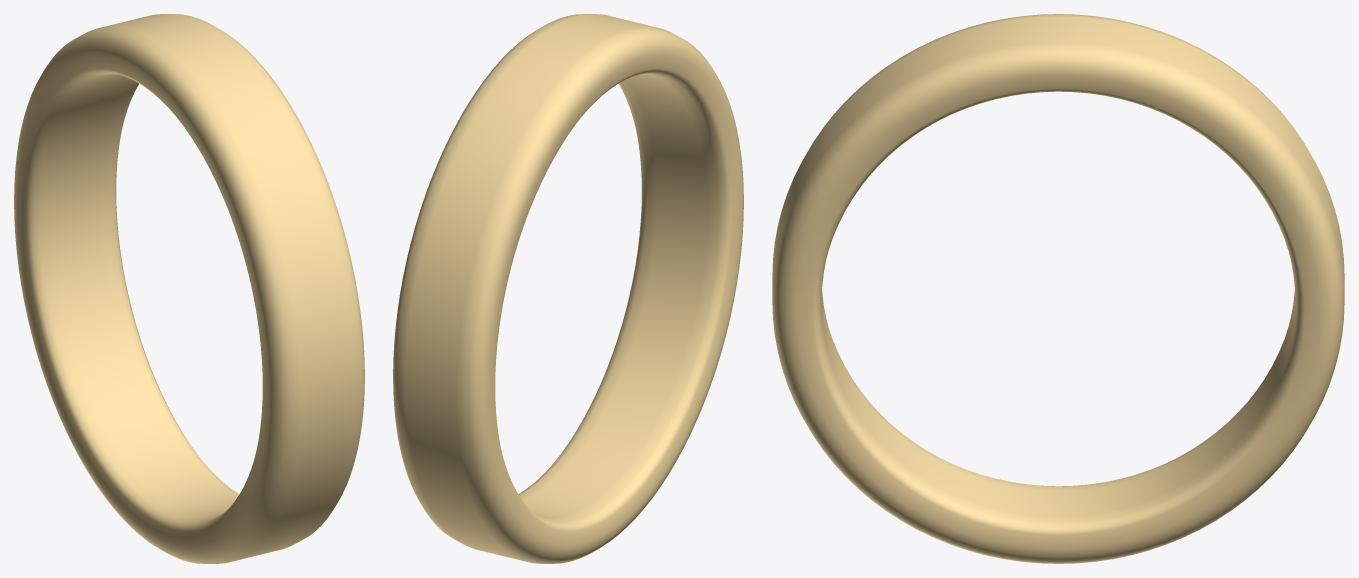
File: RingGoldBand.obj
The picture shows the model from 3 angles, left to right: view 1: azimuth 30°, elevation 25°; view 2: azimuth 150°, elevation 25°; view 3: azimuth 270°, elevation 25°; orthographic projection. The views are drawn at different scales.
Parts seen in each view (by area): view 1: Gold18k; view 2: Gold18k; view 3: Gold18k.
Part boxes in pixels (<box>): Gold18k: <box>14,14,364,563</box>; Gold18k: <box>393,14,743,563</box>; Gold18k: <box>772,14,1344,563</box>.
Size of the model in its own units: 0.004 by 0.0207 by 0.0207.
